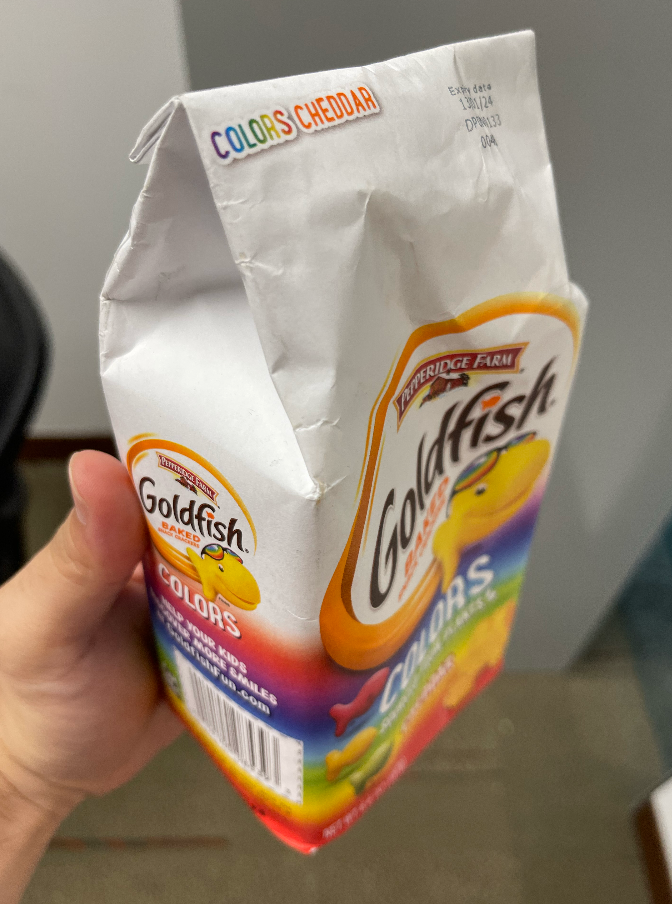crackers_100g-199g: (154, 243, 526, 762)
